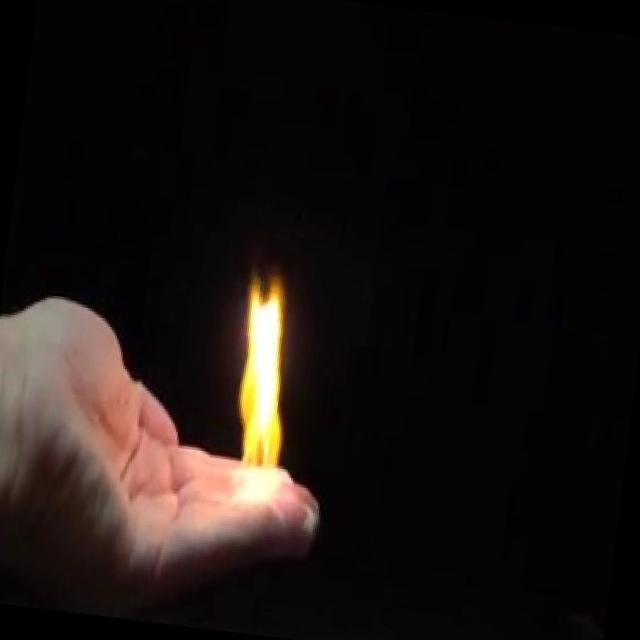Fire: (209, 264, 312, 530)
